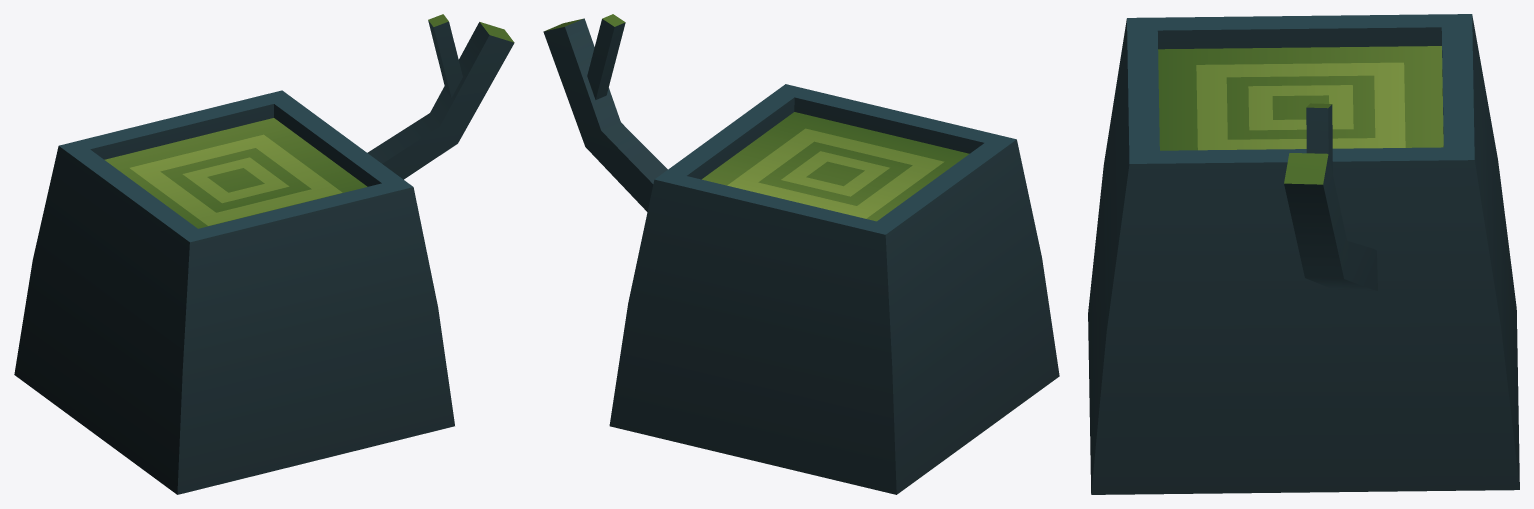
File: stump-tree.fbx
3 views of the same model, side by side, from view 1: azimuth 30°, elevation 25°; view 2: azimuth 150°, elevation 25°; view 3: azimuth 270°, elevation 25° (orthographic). The views are drawn at different scales.
Parts seen in each view (by area): view 1: stump; view 2: stump; view 3: stump.
Boxes of the visible parts, <box> form: stump: <box>14,14,514,494</box>; stump: <box>543,14,1059,494</box>; stump: <box>1088,14,1519,494</box>.
Size of the model in its own units: 1.45 by 1.09 by 0.9747.
